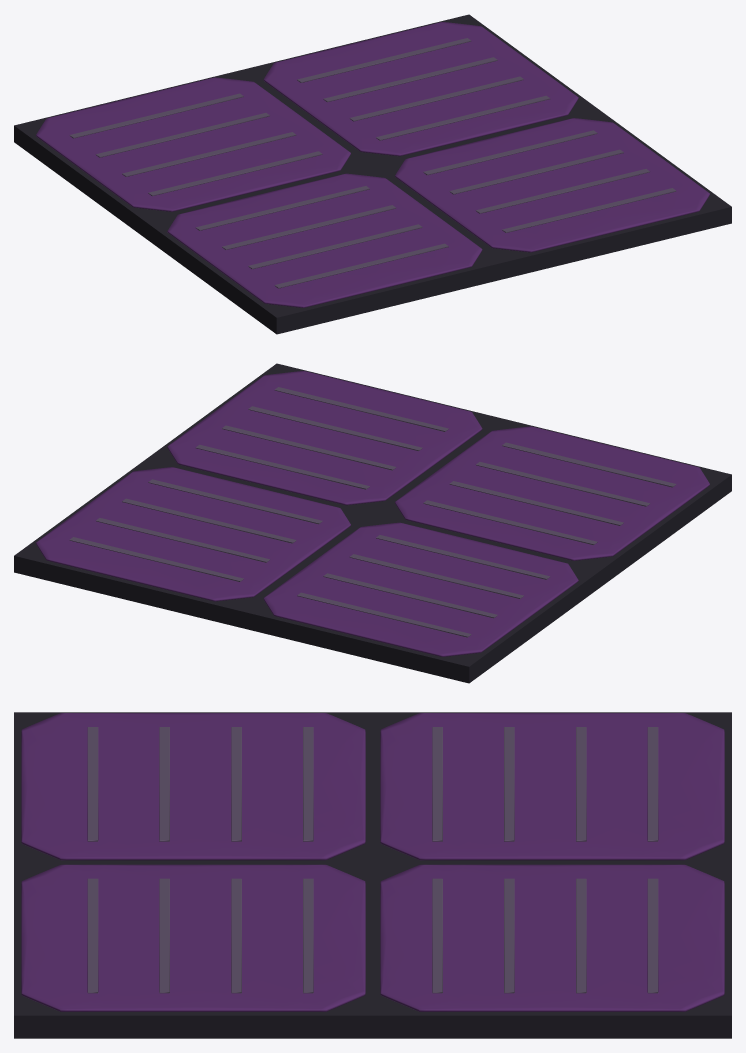
File: SM_SB_Kit_KeelShell_FloorPlate.fbx
3 renders of one model, top to bottom at view 1: azimuth 30°, elevation 25°; view 2: azimuth 150°, elevation 25°; view 3: azimuth 270°, elevation 25°, orthographic. The views are drawn at different scales.
Parts seen in each view (by area): view 1: SM_SB_Kit_KeelShell_FloorPlate; view 2: SM_SB_Kit_KeelShell_FloorPlate; view 3: SM_SB_Kit_KeelShell_FloorPlate.
Boxes of the visible parts, x1,y1,x2,y2 form: SM_SB_Kit_KeelShell_FloorPlate: [14, 14, 731, 334]; SM_SB_Kit_KeelShell_FloorPlate: [14, 363, 731, 683]; SM_SB_Kit_KeelShell_FloorPlate: [14, 712, 731, 1038].
Bounding box in the file's own units: 400 × 400 × 16.8.
